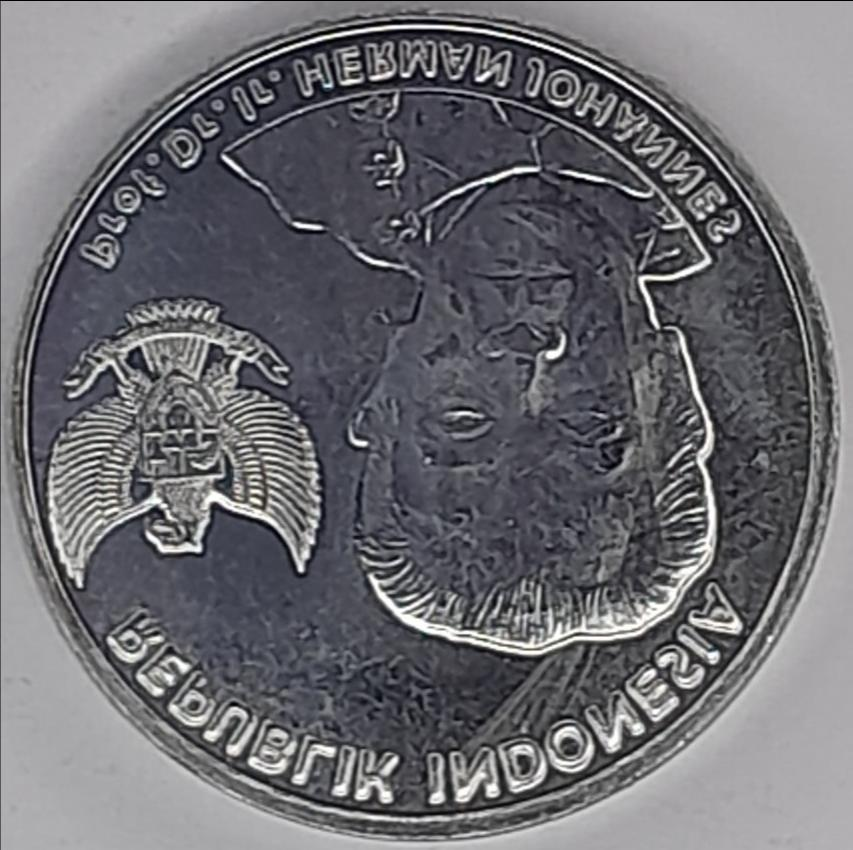coin_100_e2016: (4, 2, 846, 844)
